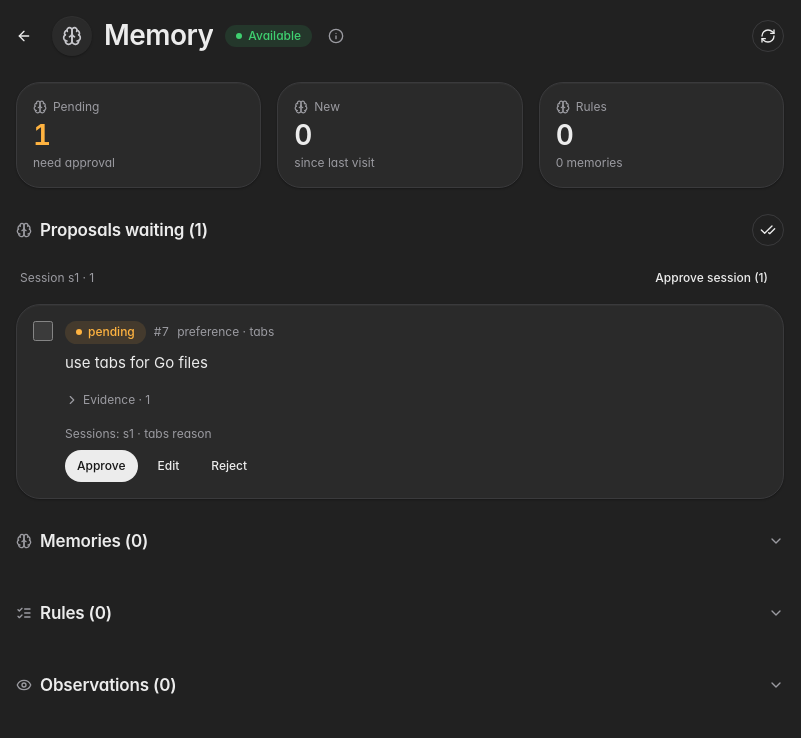
Test: MemoryPage queue › shows quotes and sessions with approve, edit, reject and batch
Expected: the text "use tabs for Go files" is shown, x1=65 y1=353 x2=208 y2=372
Expected: the text "Sessions: s1 · tabs reason" is shown, x1=65 y1=426 x2=212 y2=441
Click the button "Approve": (101, 466) x1=65 y1=450 x2=138 y2=482
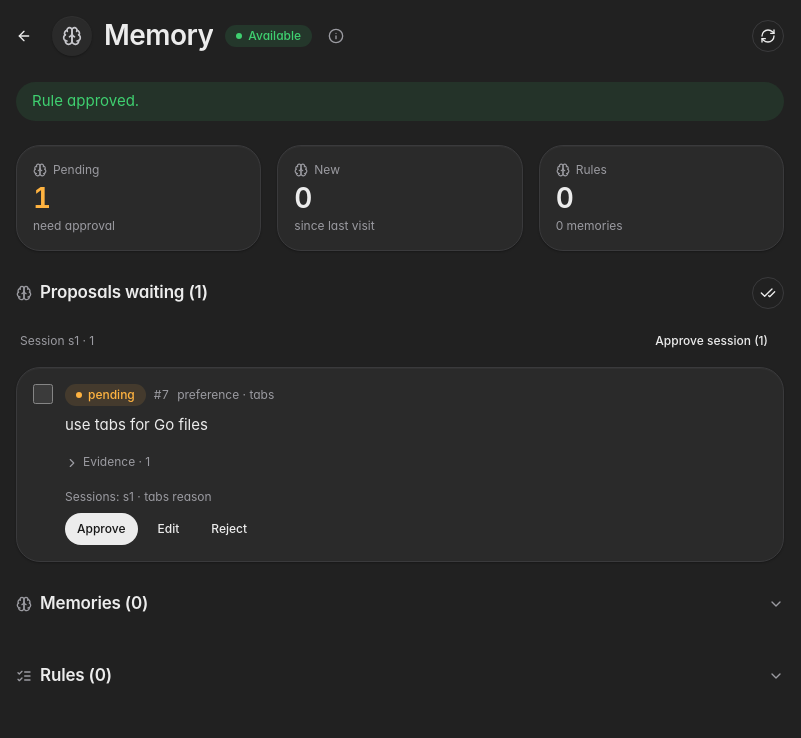
Result: the text "Rule approved." is shown at x1=16 y1=82 x2=784 y2=120
